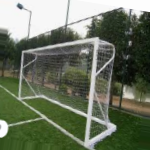goals: (17, 36, 117, 145)
